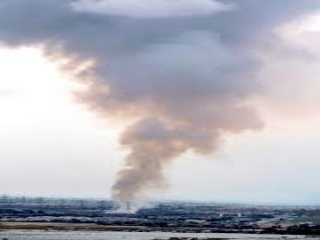smoke: (95, 74, 213, 202)
